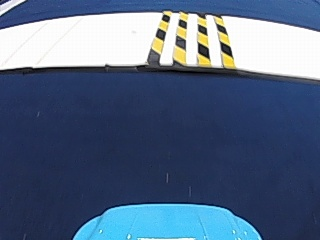bump: (147, 9, 235, 69)
